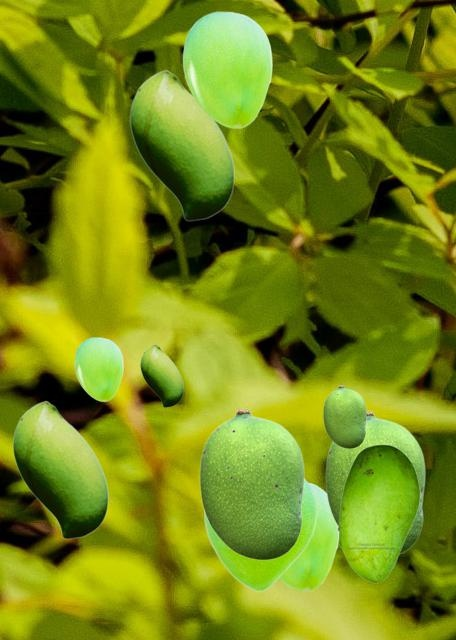green_mango: (129, 69, 233, 220), (199, 408, 303, 559), (325, 410, 424, 553), (12, 400, 107, 538), (204, 477, 316, 591), (337, 444, 419, 582), (182, 11, 271, 127), (279, 482, 338, 590), (74, 337, 122, 400), (323, 385, 365, 447), (140, 344, 182, 406)
